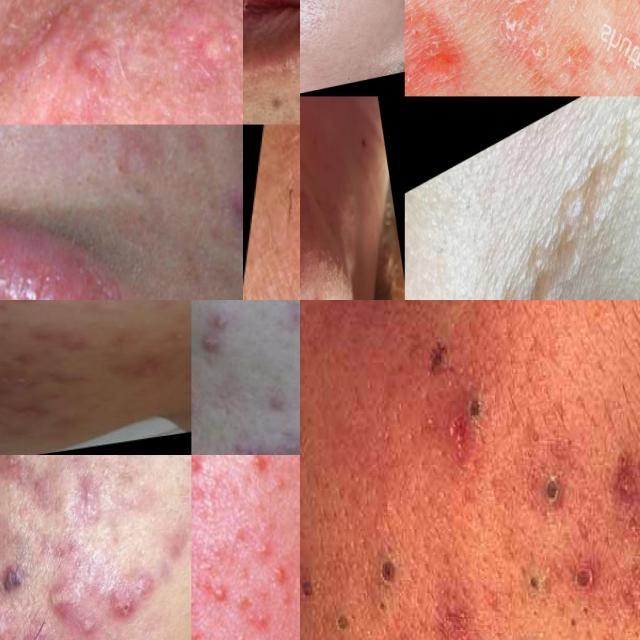acne_scars: (121, 356, 178, 384), (45, 332, 98, 357), (0, 300, 53, 313)
comedone: (84, 125, 161, 207), (376, 543, 404, 596), (537, 470, 571, 512), (570, 561, 606, 598), (342, 175, 365, 207), (462, 386, 482, 420), (300, 575, 315, 614)
papule: (240, 591, 284, 640), (260, 384, 293, 421), (206, 302, 238, 339), (243, 455, 277, 482), (192, 343, 198, 381)
pustule: (72, 600, 108, 640), (206, 576, 236, 612), (270, 557, 300, 592), (191, 376, 208, 417), (191, 455, 206, 481)
sebo-crystan-conglo: (104, 563, 173, 628), (227, 415, 300, 455), (45, 566, 92, 619), (0, 544, 40, 601), (3, 399, 65, 427), (0, 371, 45, 403), (197, 329, 229, 368), (4, 620, 66, 640), (191, 511, 200, 590)
syringoma: (470, 98, 640, 300)
